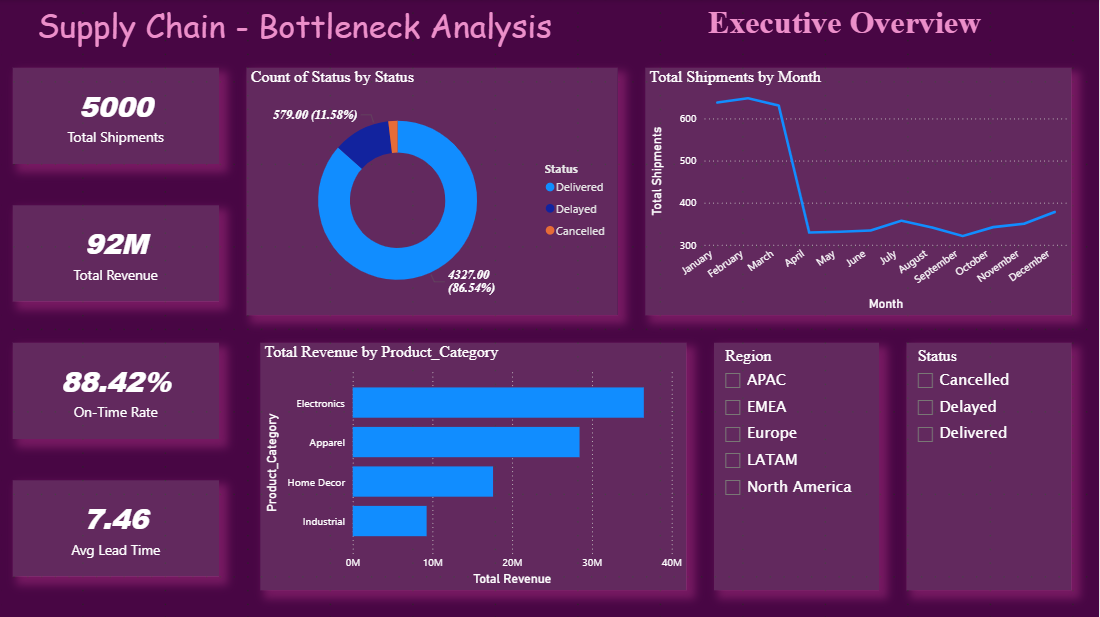

The dashboard page shown, as its layout file describes it:
{"tool":"powerbi","page":{"name":"Executive Overview","canvas":[1280,720],"ordinal":0},"visuals":[{"type":"card","fields":{"Values":["Shipment_Records.Total Shipments"]},"box":[16,80,240,112],"z":0},{"type":"card","fields":{"Values":["Shipment_Records.Total Revenue"]},"box":[16,240,240,112],"z":1000},{"type":"card","fields":{"Values":["Shipment_Records.On-Time Rate"]},"box":[16,400,240,112],"z":2000},{"type":"card","fields":{"Values":["Shipment_Records.Avg Lead Time"]},"box":[16,560,240,112],"z":3000},{"type":"donutChart","fields":{"Y":["CountNonNull(Shipment_Records.Status)"],"Category":["Shipment_Records.Status"]},"box":[288,80,432,288],"z":4000},{"type":"textbox","box":[688,0,592,64],"z":5000},{"type":"textbox","box":[0,0,688,64],"z":6000},{"type":"lineChart","fields":{"Category":["Shipment_Records.Order_Date.Variation.Date Hierarchy.Month"],"Y":["Shipment_Records.Total Shipments"]},"box":[752,80,496,288],"z":7000},{"type":"clusteredBarChart","fields":{"Category":["Shipment_Records.Product_Category"],"Y":["Shipment_Records.Total Revenue"]},"box":[304,400,496,288],"z":8000},{"type":"slicer","fields":{"Values":["Shipment_Records.Region"]},"box":[832,400,192,288],"z":9000},{"type":"slicer","fields":{"Values":["Shipment_Records.Status"]},"box":[1056,400,192,288],"z":10000}]}

Visuals, with their boxes in screenshot pixels (x1, y1, x2, y2), scaled from the page's 1280x720 canvas onto the 1100x617 screenshot:
card - Shipment_Records.Total Shipments: region(14, 69, 220, 165)
card - Shipment_Records.Total Revenue: region(14, 206, 220, 302)
card - Shipment_Records.On-Time Rate: region(14, 343, 220, 439)
card - Shipment_Records.Avg Lead Time: region(14, 480, 220, 576)
donutChart - CountNonNull(Shipment_Records.Status) x Shipment_Records.Status: region(248, 69, 619, 315)
textbox: region(591, 0, 1099, 55)
textbox: region(0, 0, 591, 55)
lineChart - Shipment_Records.Order_Date.Variation.Date Hierarchy.Month x Shipment_Records.Total Shipments: region(646, 69, 1072, 315)
clusteredBarChart - Shipment_Records.Product_Category x Shipment_Records.Total Revenue: region(261, 343, 688, 590)
slicer - Shipment_Records.Region: region(715, 343, 880, 590)
slicer - Shipment_Records.Status: region(908, 343, 1072, 590)
